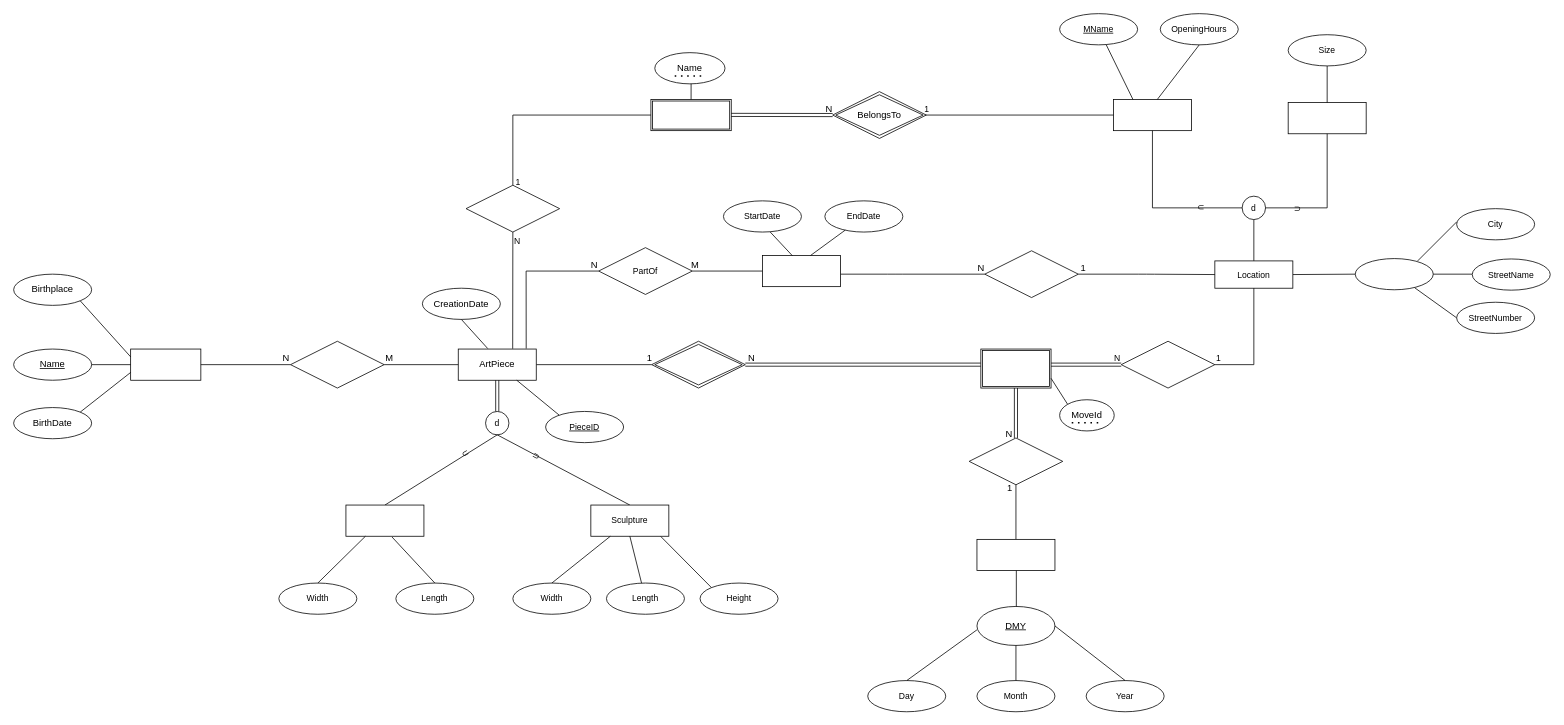
Image size: 1564x725. Some labels were removed from this diagram. The shapes that lost their labels are listed below. From the top down, each one's box as (x1, y1, x2, y2) in pixels, then its label:
(650, 99, 731, 131): Collection
(1113, 99, 1191, 131): Museum
(1287, 102, 1366, 134): StorageSite
(465, 184, 560, 232): Contains
(762, 255, 840, 287): Exhibition
(984, 250, 1078, 298): DisplayedAt
(1354, 258, 1433, 290): Address
(130, 348, 201, 380): Artist
(290, 340, 384, 388): Created
(651, 340, 745, 388): Moved
(980, 348, 1051, 388): Moves
(1120, 340, 1215, 388): ToWhere
(968, 437, 1063, 485): When
(345, 504, 424, 536): Painting
(976, 539, 1055, 571): Date
